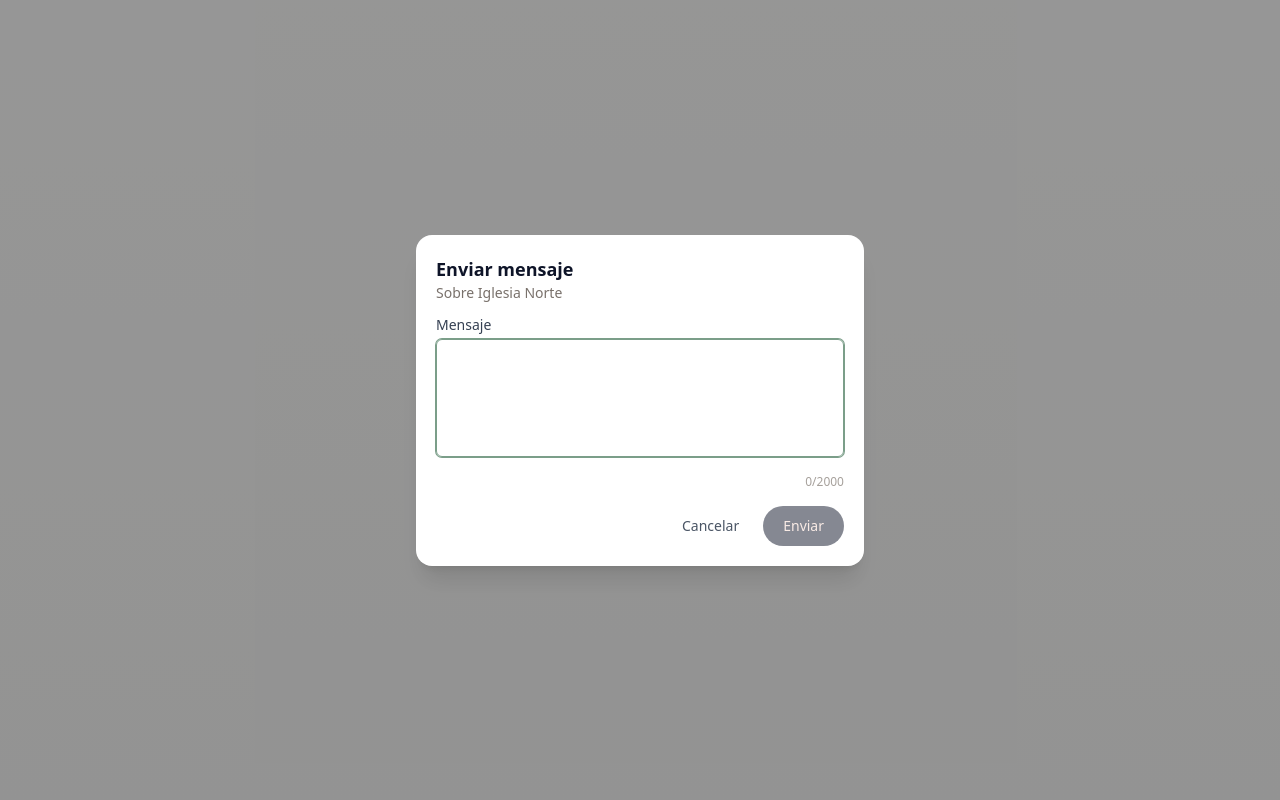
it: MessageComposer › does not close while sending
The width and height of the screenshot is (1280, 800).
Later steps or results of the test are not shown.
In the text box labelled "Mensaje": (640, 398) [436,338,844,456], type "Hola"
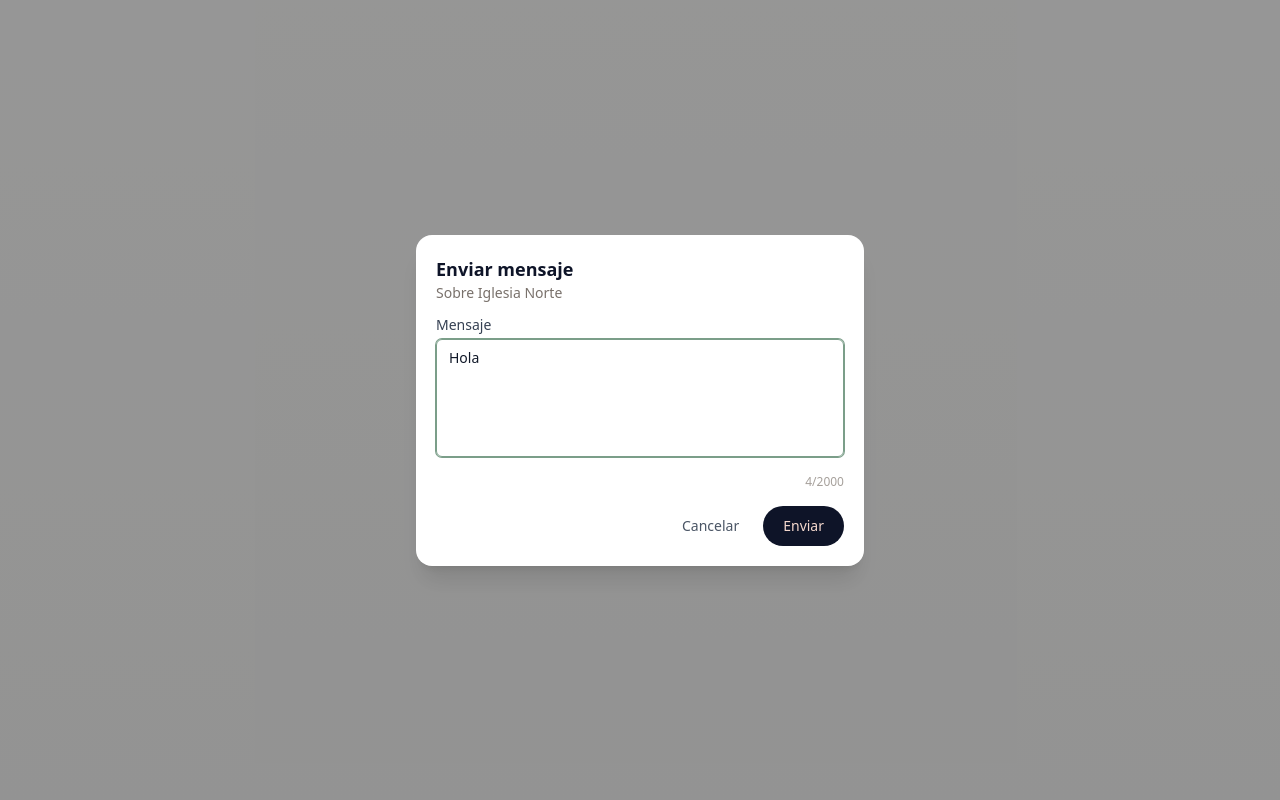
Click the button "Enviar": click(804, 526) [763,506,844,546]
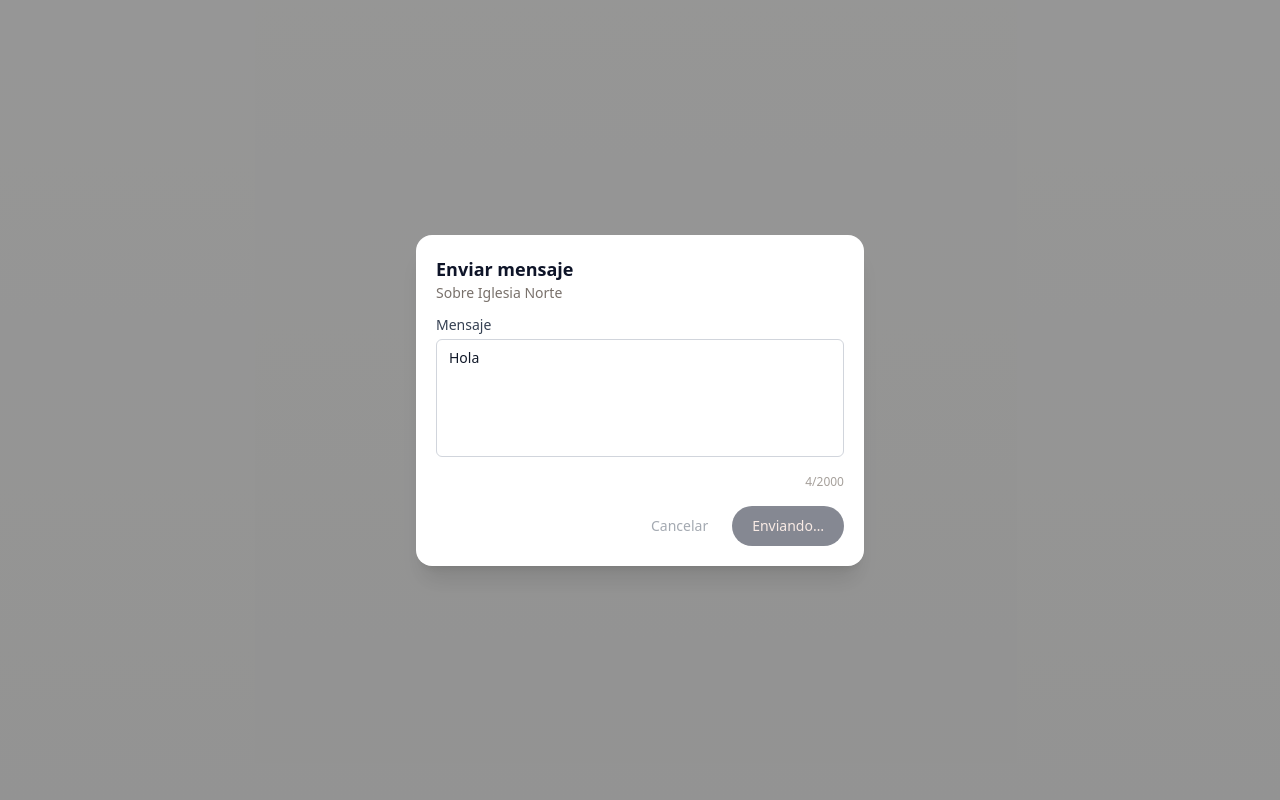
Expected: the button "Enviando…" is disabled, [732,506,844,546]
